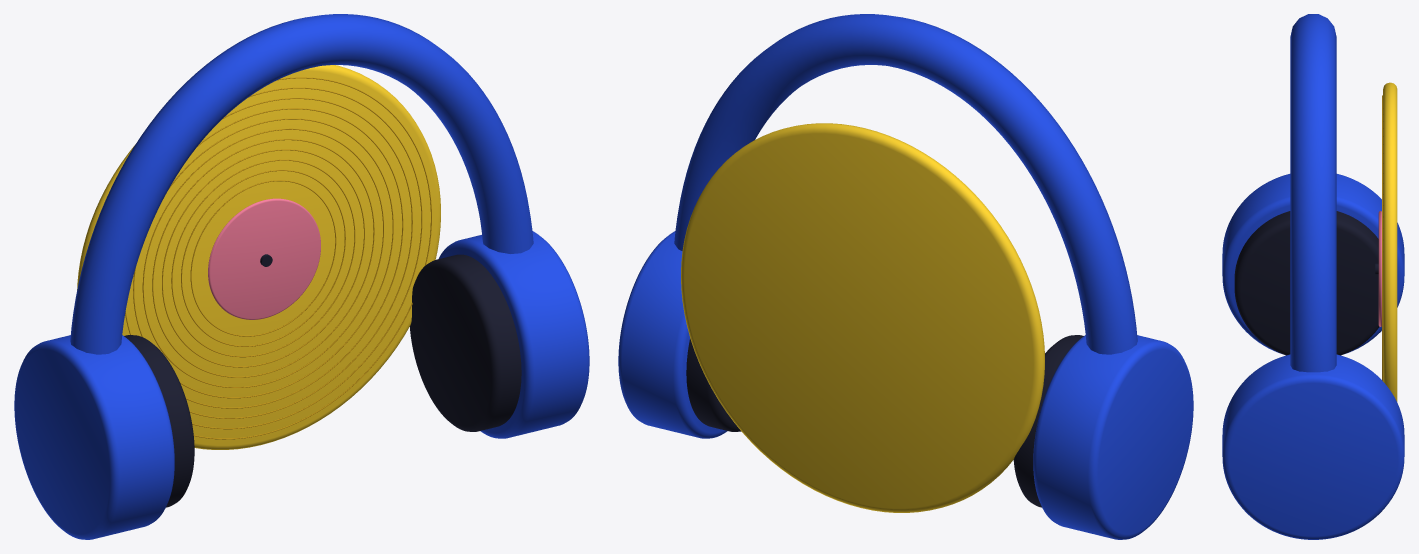
The model's file is music-sculpture.glb.
The picture shows the model from 3 angles, left to right: view 1: azimuth 30°, elevation 25°; view 2: azimuth 150°, elevation 25°; view 3: azimuth 270°, elevation 25°; orthographic projection. The views are drawn at different scales.
Parts seen in each view (by area): view 1: HERO_vinyl, HERO_headband, HERO_earcup_L, HERO_cushion_R, HERO_earcup_R, HERO_vinyl_label, HERO_cushion_L, HERO_groove_0.113, HERO_groove_0.104, HERO_groove_0.122, HERO_groove_0.095, HERO_groove_0.131 (+6 smaller); view 2: HERO_vinyl, HERO_headband, HERO_earcup_L, HERO_earcup_R, HERO_cushion_L, HERO_cushion_R; view 3: HERO_earcup_R, HERO_headband, HERO_cushion_L, HERO_earcup_L, HERO_vinyl, HERO_vinyl_label, HERO_groove_0.158.
Part boxes in pixels (x1=…): HERO_vinyl: x1=77, y1=65, x2=440, y2=449; HERO_headband: x1=70, y1=14, x2=533, y2=354; HERO_earcup_L: x1=14, y1=335, x2=174, y2=539; HERO_cushion_R: x1=410, y1=254, x2=521, y2=431; HERO_earcup_R: x1=438, y1=231, x2=589, y2=438; HERO_vinyl_label: x1=208, y1=198, x2=320, y2=319; HERO_cushion_L: x1=124, y1=335, x2=194, y2=507; HERO_groove_0.113: x1=142, y1=128, x2=383, y2=387; HERO_groove_0.104: x1=152, y1=139, x2=374, y2=377; HERO_groove_0.122: x1=133, y1=118, x2=393, y2=398; HERO_groove_0.095: x1=162, y1=149, x2=364, y2=367; HERO_groove_0.131: x1=125, y1=108, x2=403, y2=408; HERO_vinyl: x1=681, y1=123, x2=1044, y2=512; HERO_headband: x1=674, y1=14, x2=1137, y2=354; HERO_earcup_L: x1=1033, y1=335, x2=1193, y2=539; HERO_earcup_R: x1=618, y1=231, x2=727, y2=438; HERO_cushion_L: x1=1013, y1=335, x2=1083, y2=507; HERO_cushion_R: x1=686, y1=338, x2=741, y2=431; HERO_earcup_R: x1=1222, y1=354, x2=1404, y2=539; HERO_headband: x1=1290, y1=14, x2=1336, y2=372; HERO_cushion_L: x1=1234, y1=211, x2=1379, y2=355; HERO_earcup_L: x1=1222, y1=174, x2=1404, y2=353; HERO_vinyl: x1=1383, y1=82, x2=1397, y2=401; HERO_vinyl_label: x1=1378, y1=211, x2=1381, y2=326; HERO_groove_0.158: x1=1382, y1=95, x2=1382, y2=380.
Size of what is drawn, in the model's own units: 0.45 by 0.4085 by 0.166.
